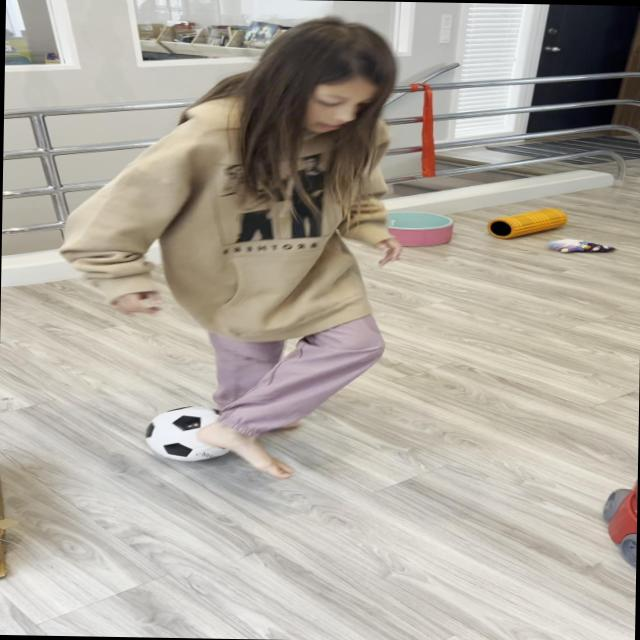Soccer Ball: (143, 404, 244, 462)
